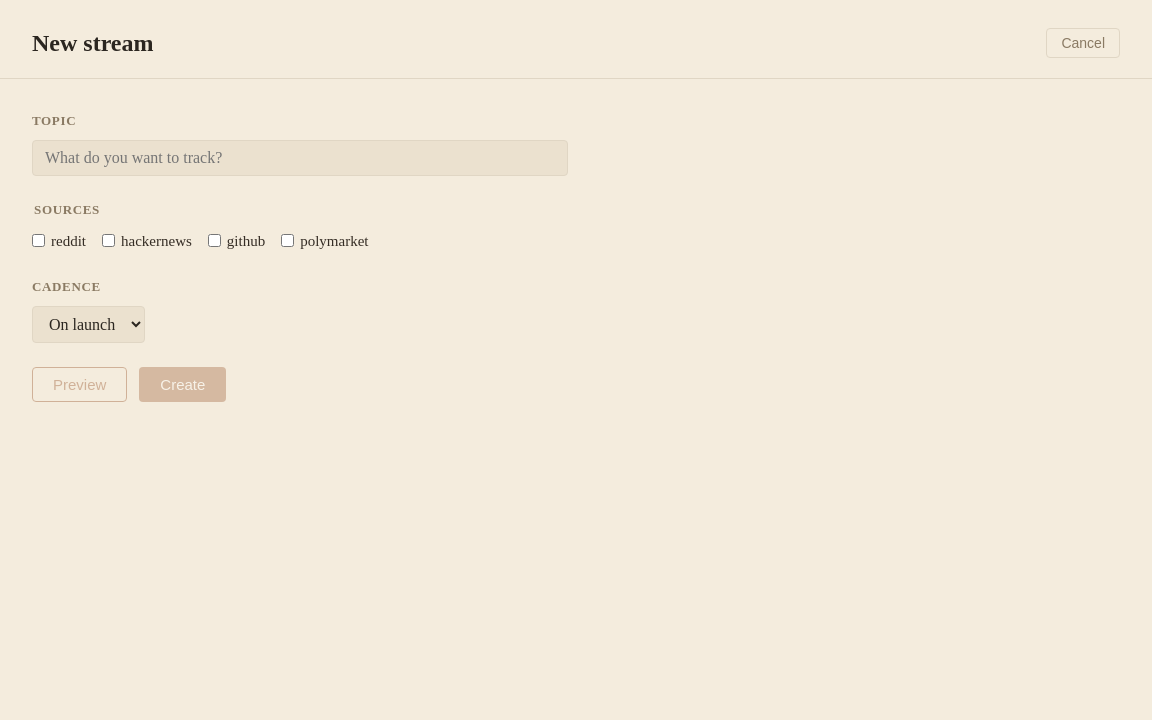
Test: Create button becomes enabled after successful Preview
The width and height of the screenshot is (1152, 720).
Type "quantum computing" into the field labelled "Topic" at (300, 158), box [32, 140, 568, 176]
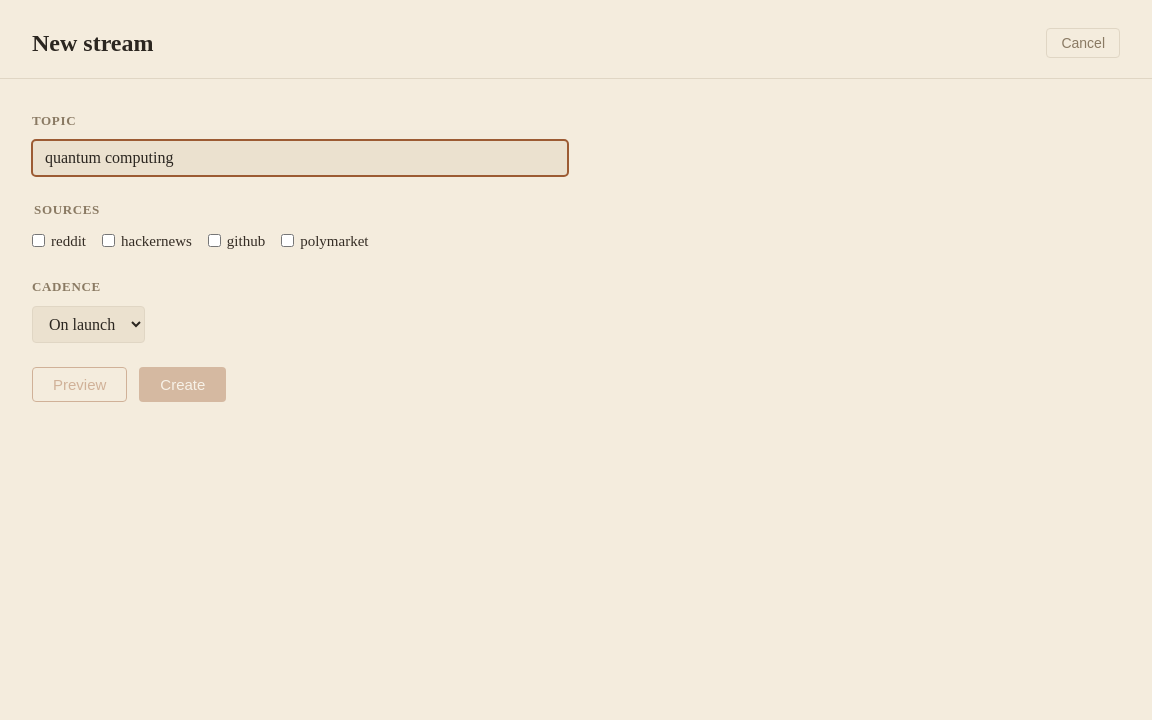
Click the checkbox labelled "hackernews" at (108, 241), box [102, 234, 115, 248]
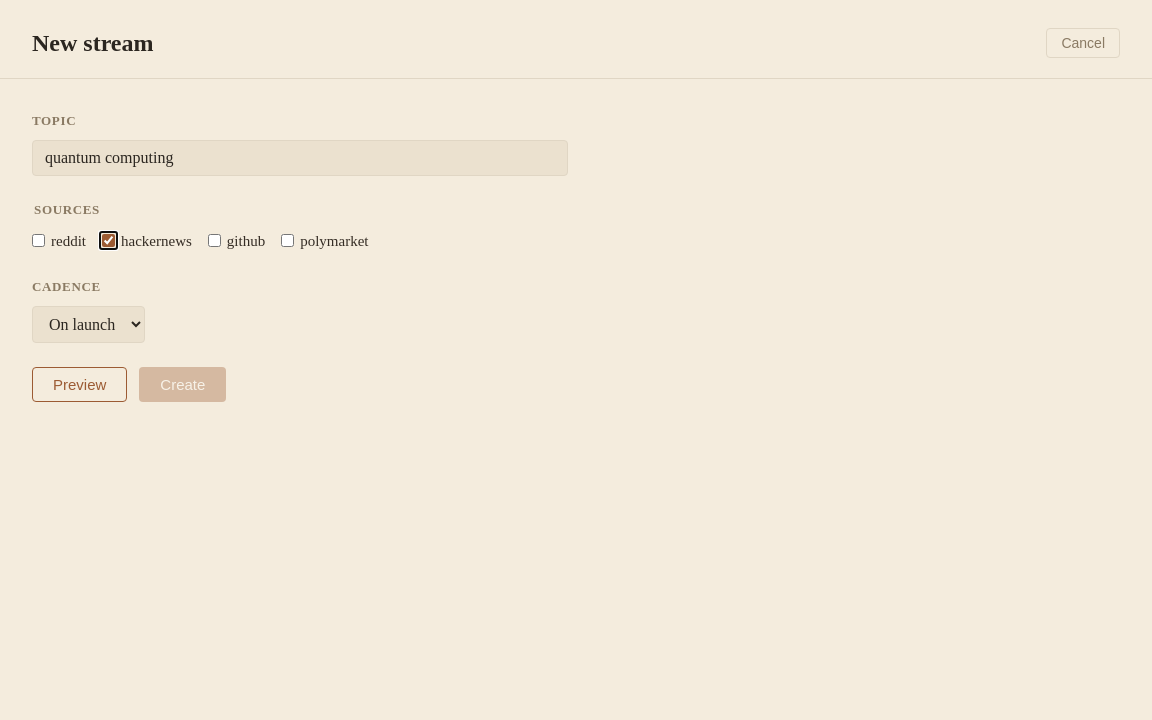
expect the button "Create" is disabled: met, box [139, 367, 226, 402]
Click the button "Preview" at (80, 384), box [32, 367, 127, 402]
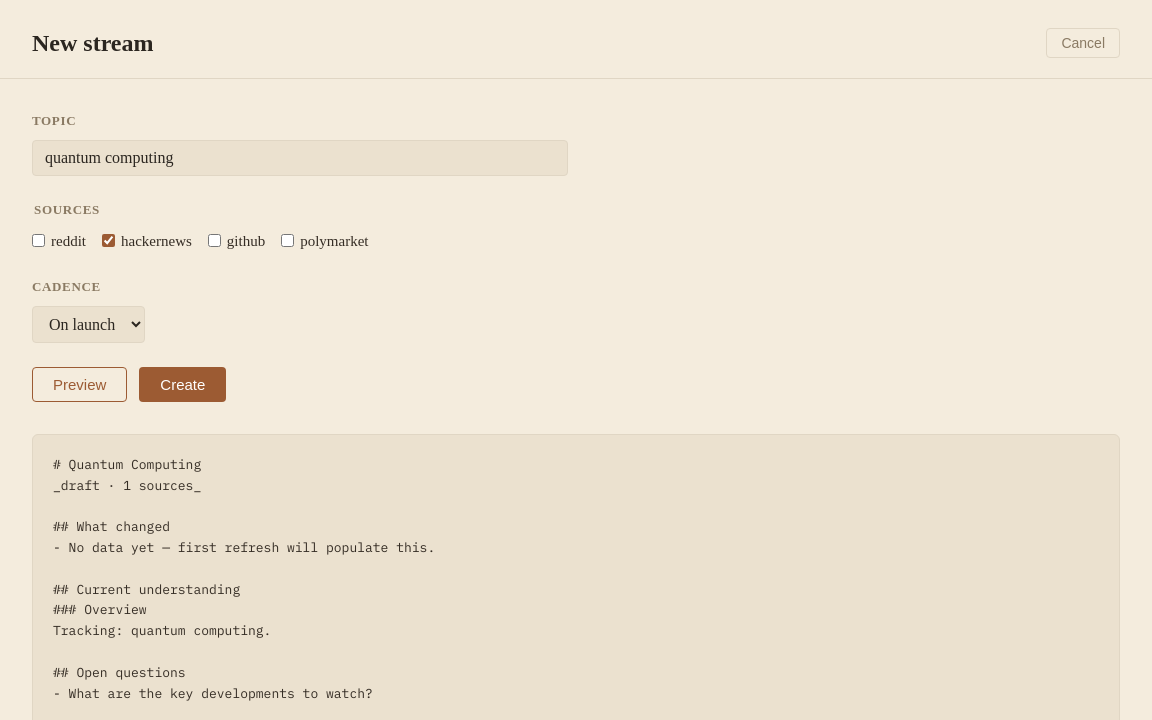
expect the button "Create" is enabled: met, box [139, 367, 226, 402]
